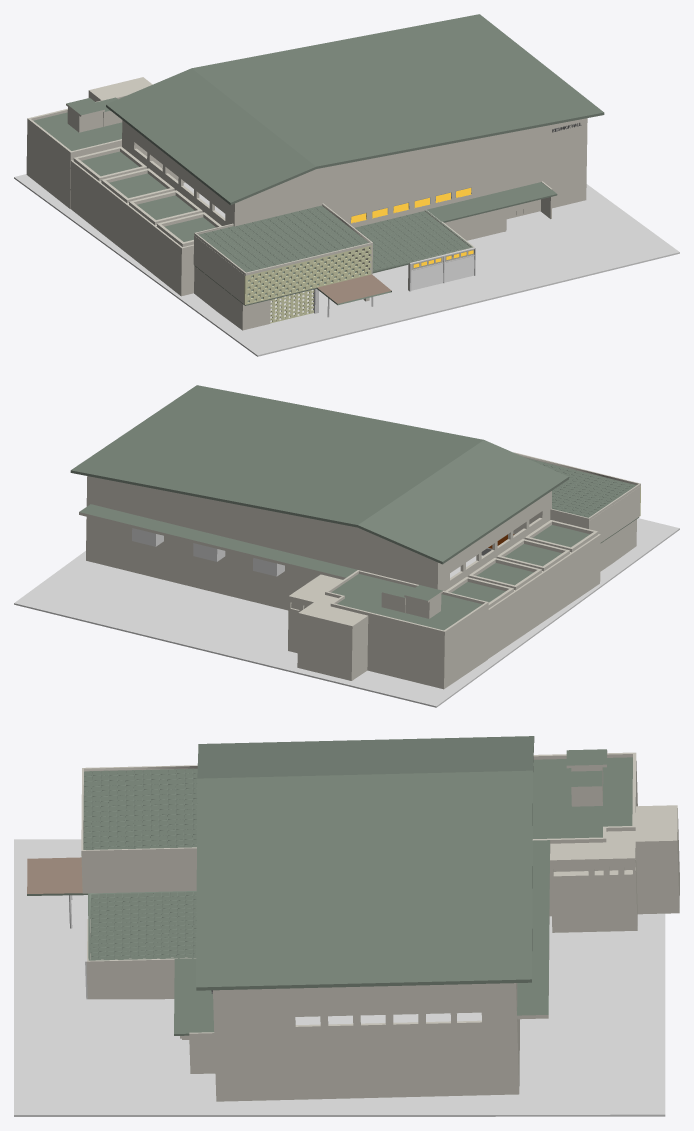
The model's file is asset.gltf.
3 views of the same model, one above another, from view 1: azimuth 30°, elevation 25°; view 2: azimuth 150°, elevation 25°; view 3: azimuth 270°, elevation 25° (orthographic). The views are drawn at different scales.
Parts seen in each view (by area): view 1: Basic Roof Warm Roof - Concrete [386364], Cube, Basic Wall CW 102-50-215p [376821], Cube.203, Floor Beam and Block 200mm [380092].001, Basic Roof Warm Roof - Concrete [386451], Cube.201, Basic Wall Generic - 200mm - Filled [386719], Basic Wall CW 102-50-215p [377548], Basic Wall CW 102-50-215p [374909], Basic Wall CW 102-85-215p [397137], Basic Wall Generic - 200mm [374630] (+4 smaller); view 2: Basic Roof Warm Roof - Concrete [386364], Basic Wall CW 102-50-215p [375438], Cube, Cube.201, Cube.203, Basic Roof Warm Roof - Concrete [386451], Basic Wall CW 102-50-215p [377548], Basic Wall CW 102-85-215p [397137], Basic Wall Generic - 200mm [374630], Cube.208, Cube.207; view 3: Basic Roof Warm Roof - Concrete [386364], Cube, Basic Wall CW 102-50-215p [376910], Cube.201, Floor Beam and Block 200mm [380092].001, Basic Roof Warm Roof - Concrete [386451], Basic Wall CW 102-50-215p [384394], Basic Wall CW 102-50-215p [374909], Cube.207, Basic Wall Generic - 200mm [401452], Cube.208, Basic Wall CW 102-50-215p [375438].
Boxes of the visible parts, bbox=[...] form: Basic Roof Warm Roof - Concrete [386364]: bbox=[106, 14, 604, 205]; Cube: bbox=[14, 174, 679, 356]; Basic Wall CW 102-50-215p [376821]: bbox=[233, 118, 587, 227]; Cube.203: bbox=[70, 146, 221, 296]; Floor Beam and Block 200mm [380092].001: bbox=[194, 182, 557, 305]; Basic Roof Warm Roof - Concrete [386451]: bbox=[194, 203, 372, 275]; Cube.201: bbox=[26, 77, 152, 208]; Basic Wall Generic - 200mm - Filled [386719]: bbox=[244, 245, 371, 304]; Basic Wall CW 102-50-215p [377548]: bbox=[123, 121, 233, 225]; Basic Wall CW 102-50-215p [374909]: bbox=[408, 210, 474, 290]; Basic Wall CW 102-85-215p [397137]: bbox=[195, 237, 244, 303]; Basic Wall Generic - 200mm [374630]: bbox=[194, 266, 244, 330]; Basic Roof Warm Roof - Concrete [386364]: bbox=[70, 385, 568, 564]; Basic Wall CW 102-50-215p [375438]: bbox=[86, 476, 439, 610]; Cube: bbox=[14, 518, 679, 707]; Cube.201: bbox=[79, 504, 488, 689]; Cube.203: bbox=[445, 520, 600, 658]; Basic Roof Warm Roof - Concrete [386451]: bbox=[514, 452, 640, 520]; Basic Wall CW 102-50-215p [377548]: bbox=[439, 492, 550, 591]; Basic Wall CW 102-85-215p [397137]: bbox=[590, 487, 640, 542]; Basic Wall Generic - 200mm [374630]: bbox=[600, 519, 636, 571]; Cube.208: bbox=[404, 585, 442, 618]; Cube.207: bbox=[381, 584, 412, 612]; Basic Roof Warm Roof - Concrete [386364]: bbox=[196, 736, 534, 990]; Cube: bbox=[14, 839, 665, 1116]; Basic Wall CW 102-50-215p [376910]: bbox=[217, 983, 515, 1101]; Cube.201: bbox=[517, 752, 679, 1019]; Floor Beam and Block 200mm [380092].001: bbox=[27, 857, 214, 1035]; Basic Roof Warm Roof - Concrete [386451]: bbox=[81, 765, 197, 854]; Basic Wall CW 102-50-215p [384394]: bbox=[81, 851, 196, 893]; Basic Wall CW 102-50-215p [374909]: bbox=[86, 919, 195, 999]; Cube.207: bbox=[571, 770, 602, 806]; Basic Wall Generic - 200mm [401452]: bbox=[189, 1032, 215, 1073]; Cube.208: bbox=[566, 749, 607, 783]; Basic Wall CW 102-50-215p [375438]: bbox=[512, 983, 519, 1094].
Size of the model in its own units: 60 by 15.67 by 61.24.
